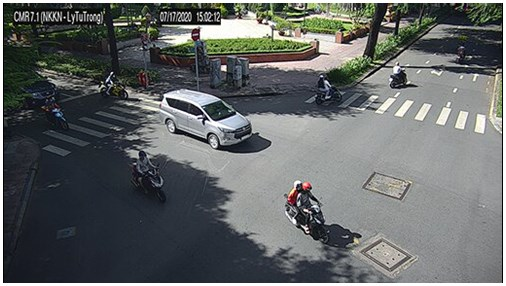xe_hoi: (159, 88, 252, 150), (21, 80, 59, 104)
xe_may: (284, 179, 329, 244), (128, 151, 167, 203), (43, 97, 70, 130), (314, 74, 343, 104), (100, 72, 128, 98), (389, 62, 408, 87), (454, 45, 465, 64)
